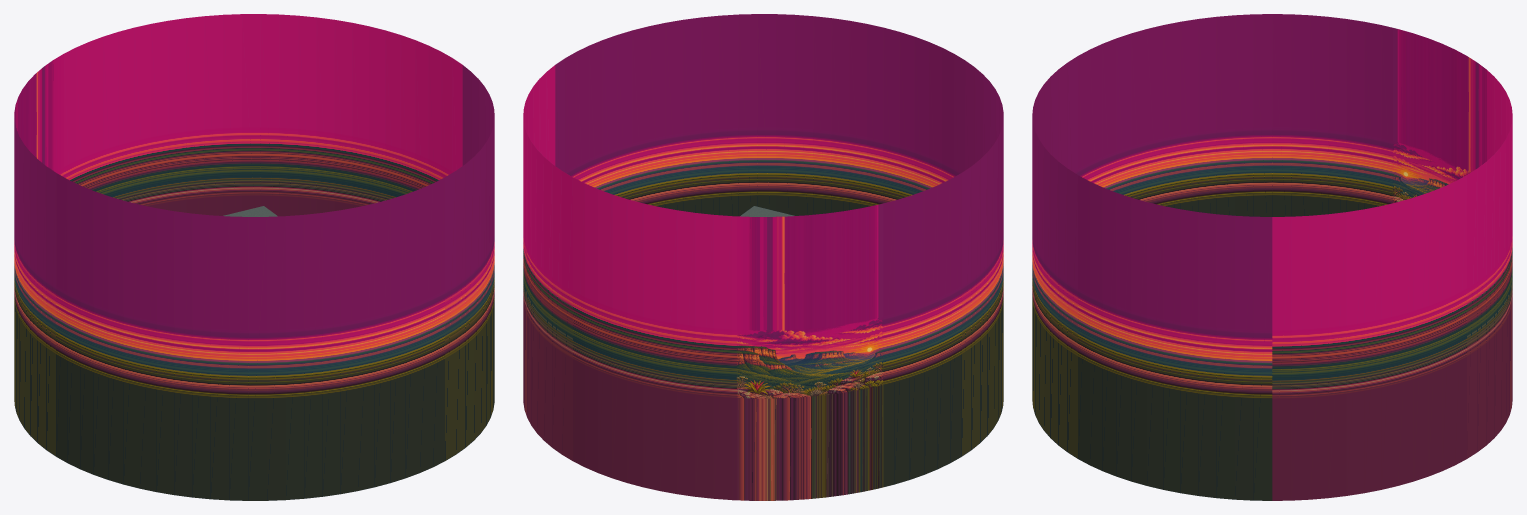
File: hall.glb
The picture shows the model from 3 angles, left to right: view 1: azimuth 30°, elevation 25°; view 2: azimuth 150°, elevation 25°; view 3: azimuth 270°, elevation 25°; orthographic projection.
Visible parts, largest first — view 1: Chapada distant panorama; view 2: Chapada distant panorama; view 3: Chapada distant panorama.
Boxes of the visible parts, x1,y1,x2,y2 form: Chapada distant panorama: [14, 14, 494, 500]; Chapada distant panorama: [523, 14, 1003, 500]; Chapada distant panorama: [1032, 14, 1512, 500].
Size of the model in its own units: 46 by 30 by 46.
Materials: 43 (8 with a texture image).
